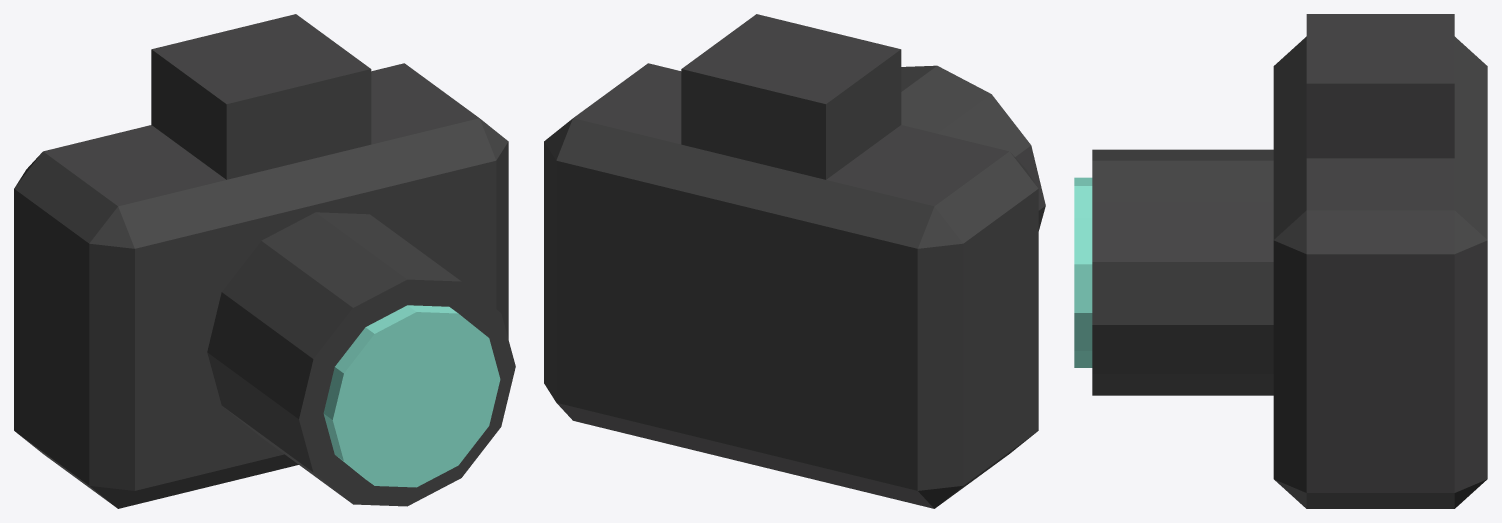
3 renders of one model, left to right at view 1: azimuth 30°, elevation 25°; view 2: azimuth 150°, elevation 25°; view 3: azimuth 270°, elevation 25°, orthographic.
Parts seen in each view (by area): view 1: Body, Lens, Viewfinder, Glass; view 2: Body, Viewfinder, Lens; view 3: Body, Lens, Viewfinder, Glass.
Boxes of the visible parts, x1=… form: Body: x1=14, y1=63, x2=508, y2=508; Lens: x1=207, y1=212, x2=515, y2=506; Viewfinder: x1=151, y1=14, x2=371, y2=179; Glass: x1=323, y1=305, x2=500, y2=487; Body: x1=544, y1=63, x2=1038, y2=508; Viewfinder: x1=681, y1=14, x2=901, y2=179; Lens: x1=901, y1=65, x2=1045, y2=230; Body: x1=1273, y1=36, x2=1487, y2=508; Lens: x1=1092, y1=149, x2=1273, y2=395; Viewfinder: x1=1306, y1=14, x2=1454, y2=158; Glass: x1=1074, y1=177, x2=1092, y2=367.
Size of the model in its own units: 29 by 25 by 25.1.
